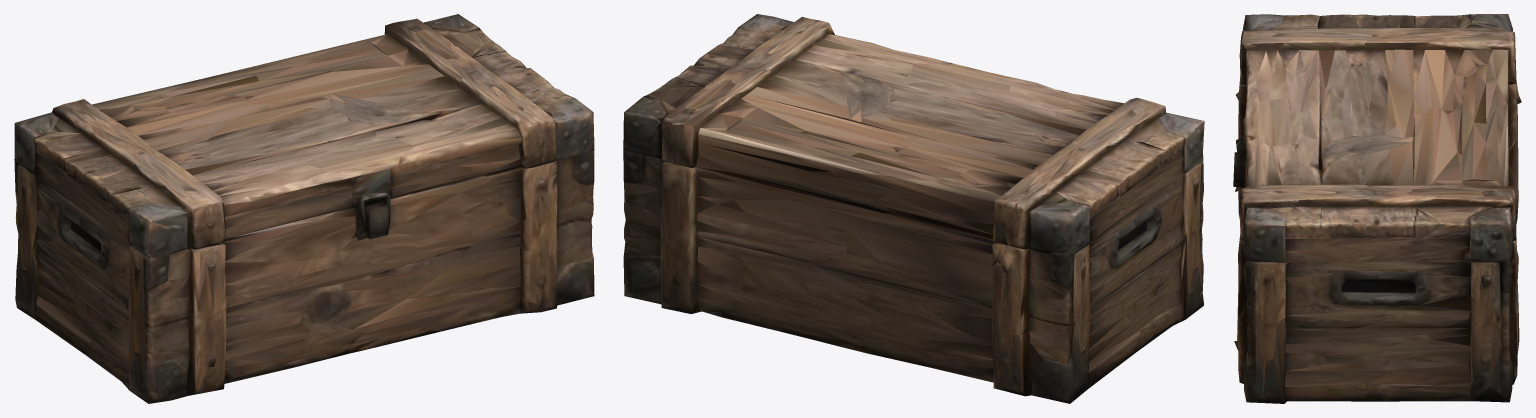
The model's file is chest.glb.
The picture shows the model from 3 angles, left to right: view 1: azimuth 30°, elevation 25°; view 2: azimuth 150°, elevation 25°; view 3: azimuth 270°, elevation 25°; orthographic projection. The views are drawn at different scales.
Visible parts, largest first — view 1: chest; view 2: chest; view 3: chest.
Part boxes in pixels (x1,y1,x2,y2): chest: (14,14,594,403); chest: (623,14,1204,403); chest: (1233,14,1521,403).
Size of the model in its own units: 0.9804 by 0.3948 by 0.5561.
1 material, 1 textured.
